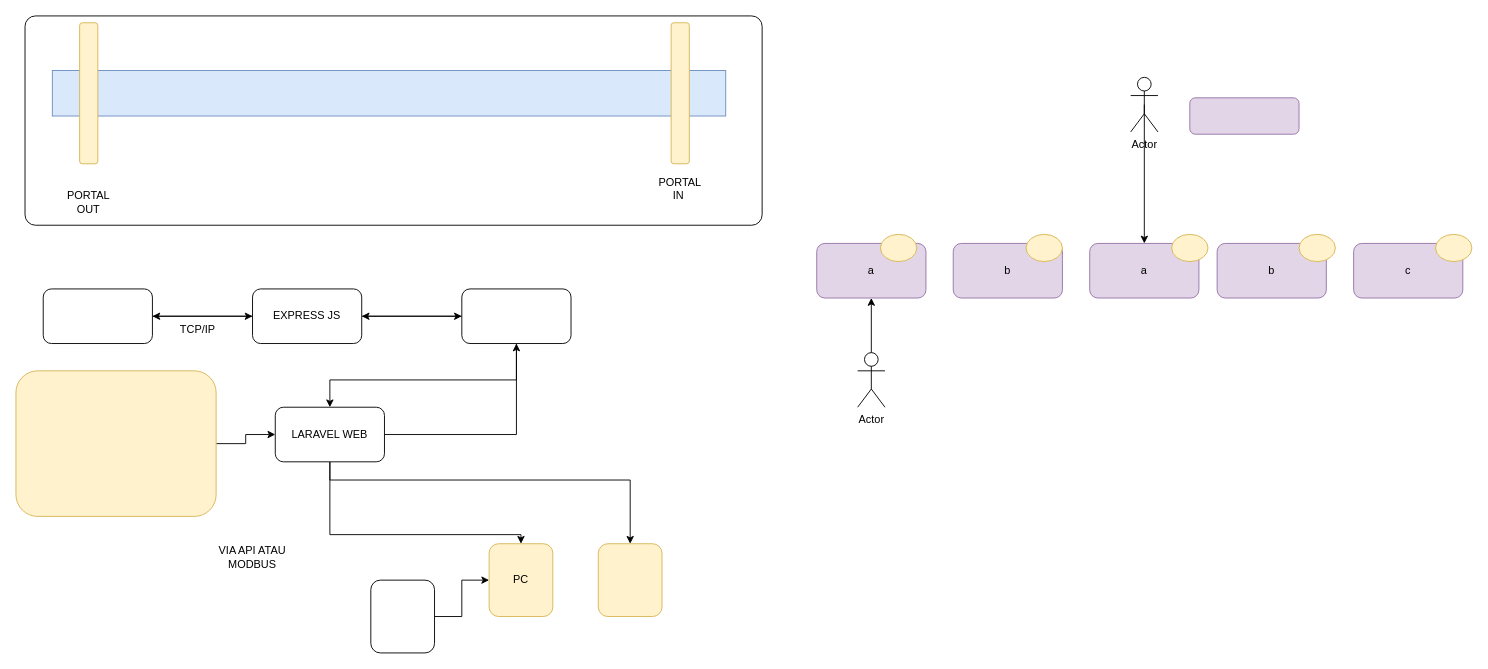
Image size: 1488x669. Some labels were removed from this diagram. The shapes that lost their labels are listed below. From the top down, each one's centre as x and y in pixels, then its label:
At (x=97, y=316): "PORTAL PLC OMRON".
At (x=516, y=316): "KE DB MYSQL LOCAL".
At (x=115, y=443): "PORTAL CAMERA".
At (x=629, y=580): "HANDHELD SCANNER".
At (x=402, y=616): "SCANNER".
